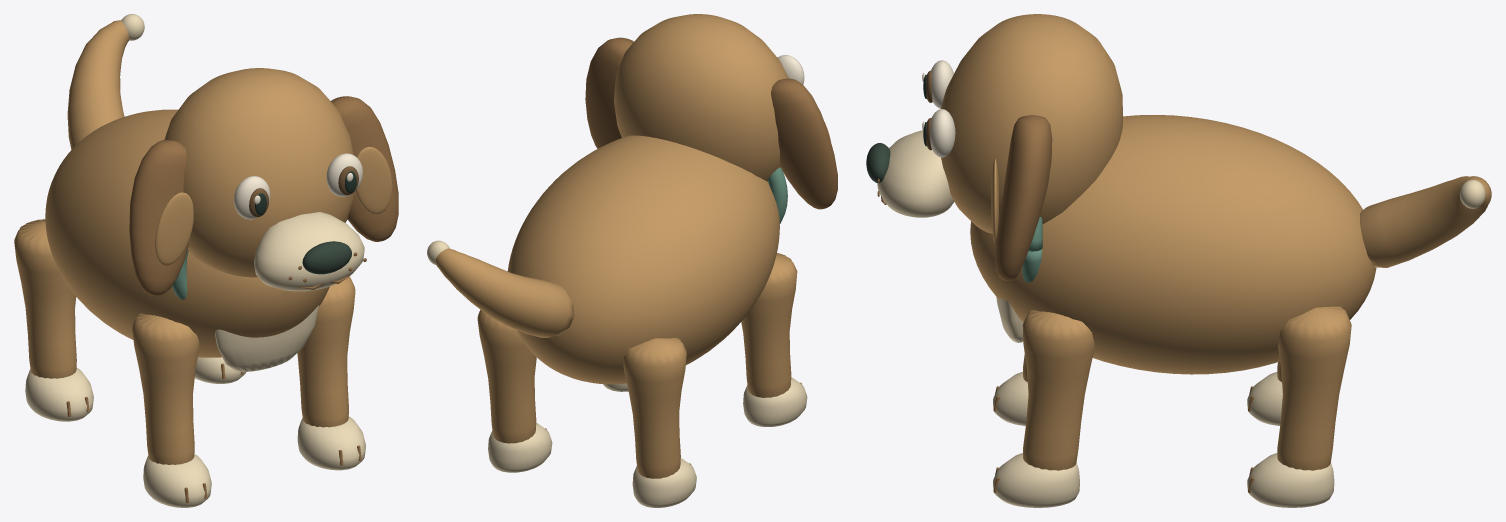
Rendered from cozy_dog.glb.
3 views of the same model, side by side, from view 1: azimuth 30°, elevation 25°; view 2: azimuth 150°, elevation 25°; view 3: azimuth 270°, elevation 25° (orthographic). The views are drawn at different scales.
Visible parts, largest first — view 1: Body_GoldenCoat, Head_GoldenCoat, dog_GoldenCoat, dog_CreamFur, EarLeft_WarmEar, Head_CreamFur, Tail_GoldenCoat, EarRight_WarmEar, Body_CreamFur, EarLeft_GoldenCoat, EarRight_GoldenCoat, Head_Nose (+3 smaller); view 2: Body_GoldenCoat, Head_GoldenCoat, dog_GoldenCoat, Tail_GoldenCoat, dog_CreamFur, EarLeft_WarmEar, EarRight_WarmEar, dog_Collar, EyeLeft_EyeWhite; view 3: Body_GoldenCoat, Head_GoldenCoat, dog_GoldenCoat, dog_CreamFur, Tail_GoldenCoat, EarRight_WarmEar, Head_CreamFur, EyeRight_EyeWhite, dog_Collar, Head_Nose, EyeLeft_EyeWhite, Body_CreamFur.
Part boxes in pixels (box(x1,y1,x2,y2)): Body_GoldenCoat: box(45, 109, 329, 357); Head_GoldenCoat: box(164, 68, 354, 277); dog_GoldenCoat: box(14, 219, 355, 464); dog_CreamFur: box(25, 357, 365, 507); EarLeft_WarmEar: box(129, 140, 188, 295); Head_CreamFur: box(254, 212, 364, 291); Tail_GoldenCoat: box(67, 20, 129, 149); EarRight_WarmEar: box(331, 96, 398, 241); Body_CreamFur: box(215, 305, 319, 371); EarLeft_GoldenCoat: box(155, 192, 193, 265); EarRight_GoldenCoat: box(356, 147, 392, 214); Head_Nose: box(302, 241, 351, 274); Body_GoldenCoat: box(507, 135, 779, 384); Head_GoldenCoat: box(614, 14, 788, 181); dog_GoldenCoat: box(477, 253, 797, 478); Tail_GoldenCoat: box(435, 248, 574, 337); dog_CreamFur: box(488, 377, 807, 507); EarLeft_WarmEar: box(771, 78, 837, 209); EarRight_WarmEar: box(585, 37, 633, 148); dog_Collar: box(768, 167, 787, 224); EyeLeft_EyeWhite: box(777, 55, 804, 84); Body_GoldenCoat: box(970, 115, 1376, 374); Head_GoldenCoat: box(940, 14, 1122, 233); dog_GoldenCoat: box(1022, 306, 1351, 470); dog_CreamFur: box(993, 372, 1334, 507); Tail_GoldenCoat: box(1360, 176, 1491, 267); EarRight_WarmEar: box(995, 115, 1052, 280); Head_CreamFur: box(877, 130, 954, 217); EyeRight_EyeWhite: box(930, 109, 955, 157); dog_Collar: box(1022, 217, 1042, 282); Head_Nose: box(866, 143, 890, 183); EyeLeft_EyeWhite: box(931, 60, 953, 108); Body_CreamFur: box(996, 297, 1023, 342).
Bounding box in the file's own units: 0.5837 × 0.8473 × 1.11.
